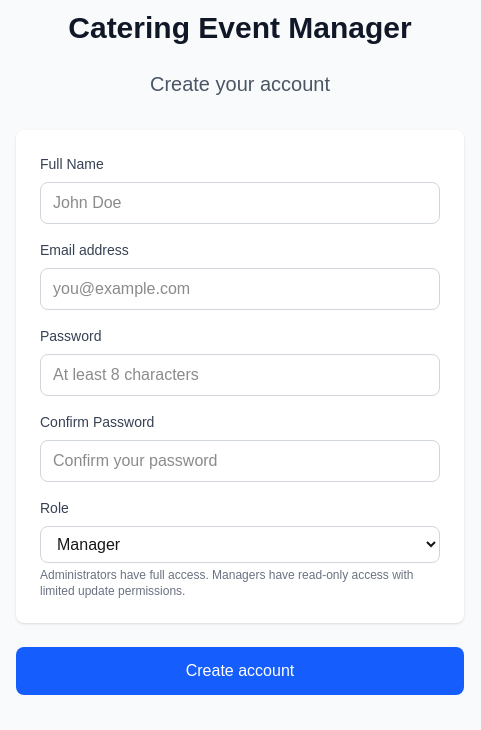
it: RegisterForm › shows validation error for short name
In the field labelled "Full Name": (240, 203) [40,182,440,224], type "A"
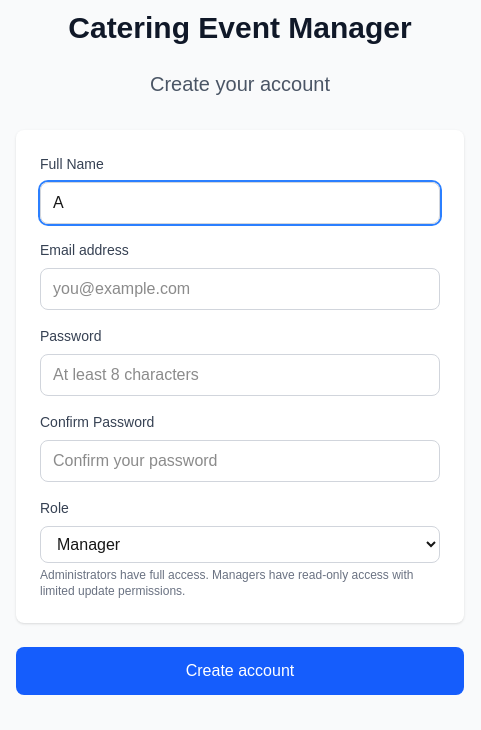
In the field labelled "Email address": (240, 289) [40,268,440,310], type "test@example.com"
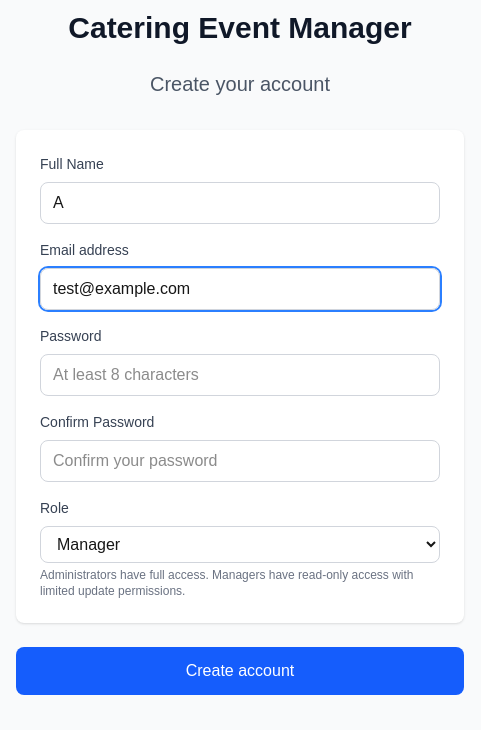
In the password field labelled "Password": (240, 375) [40,354,440,396], type "password123"
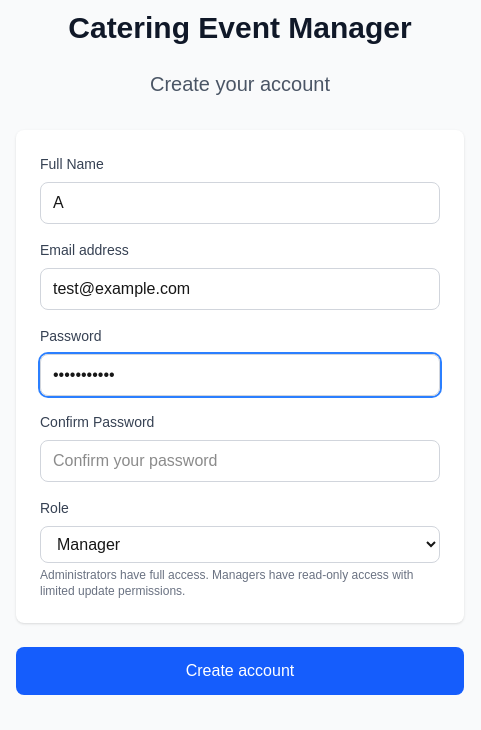
In the password field labelled "Confirm Password": (240, 461) [40,440,440,482], type "password123"
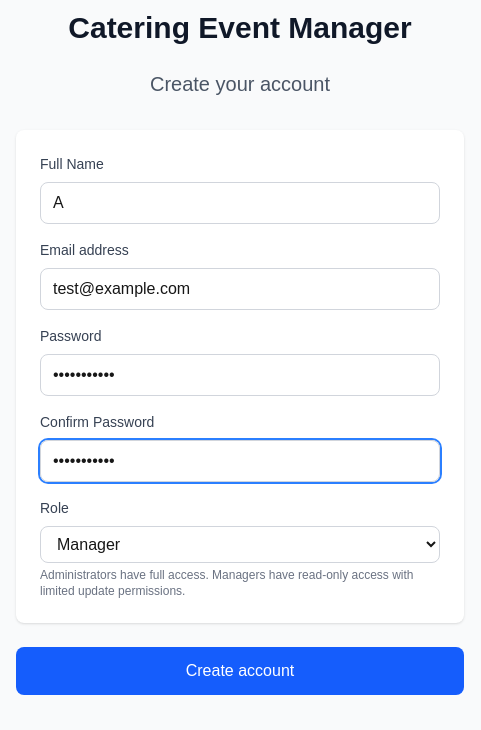
Submit the form named "create account"
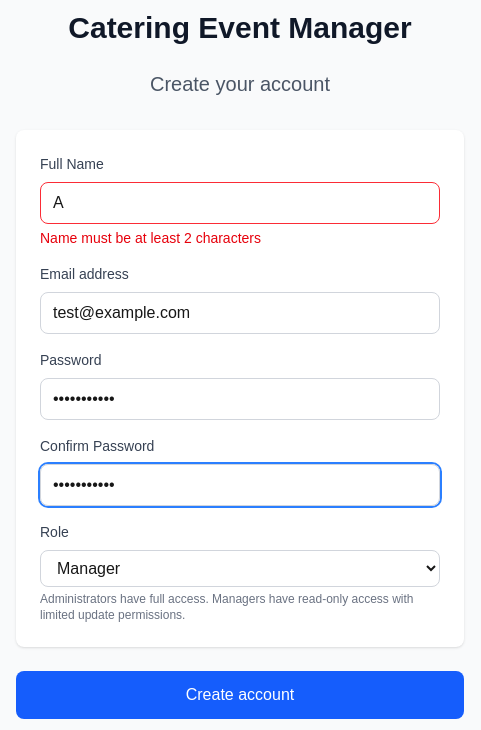
Now the text "Name must be at least 2 characters" is shown, box [40,230,261,246]
